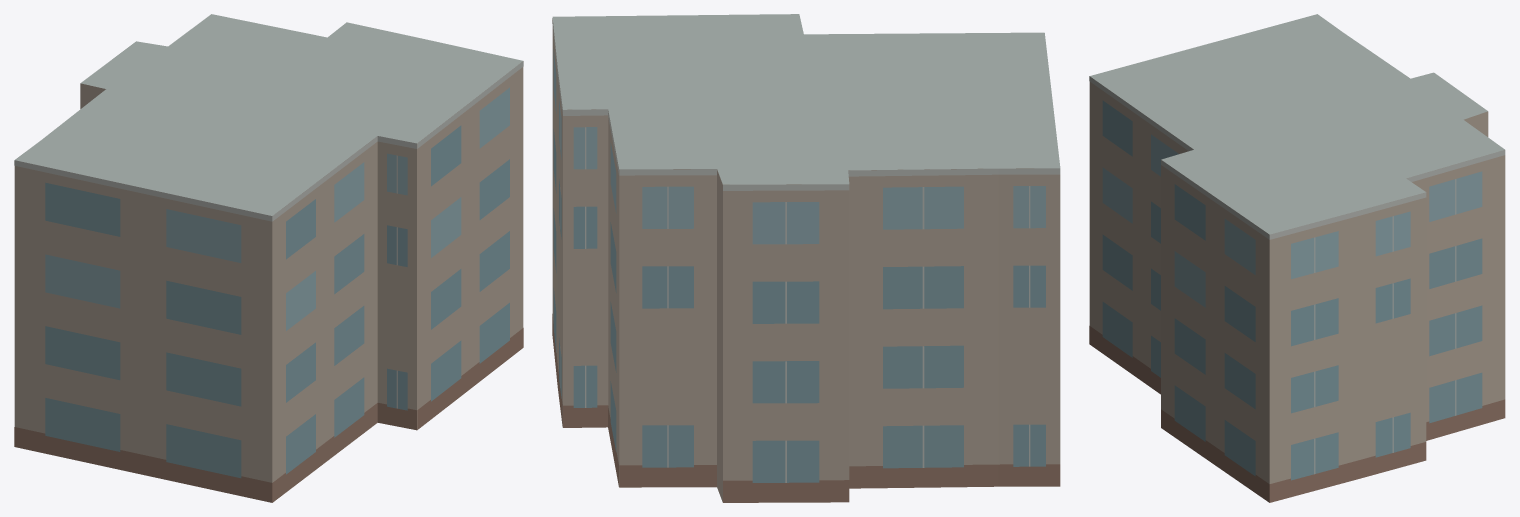
File: survey-upis-32958987.glb
3 renders of one model, left to right at view 1: azimuth 30°, elevation 25°; view 2: azimuth 150°, elevation 25°; view 3: azimuth 270°, elevation 25°, orthographic. The views are drawn at different scales.
Visible parts, largest first — view 1: survey-upis-32958987.tmp; view 2: survey-upis-32958987.tmp; view 3: survey-upis-32958987.tmp.
Part boxes in pixels (x1=…): survey-upis-32958987.tmp: x1=14, y1=14, x2=523, y2=502; survey-upis-32958987.tmp: x1=552, y1=14, x2=1060, y2=502; survey-upis-32958987.tmp: x1=1089, y1=14, x2=1505, y2=502.
Size of the model in its own units: 22.06 by 12.5 by 17.57.
